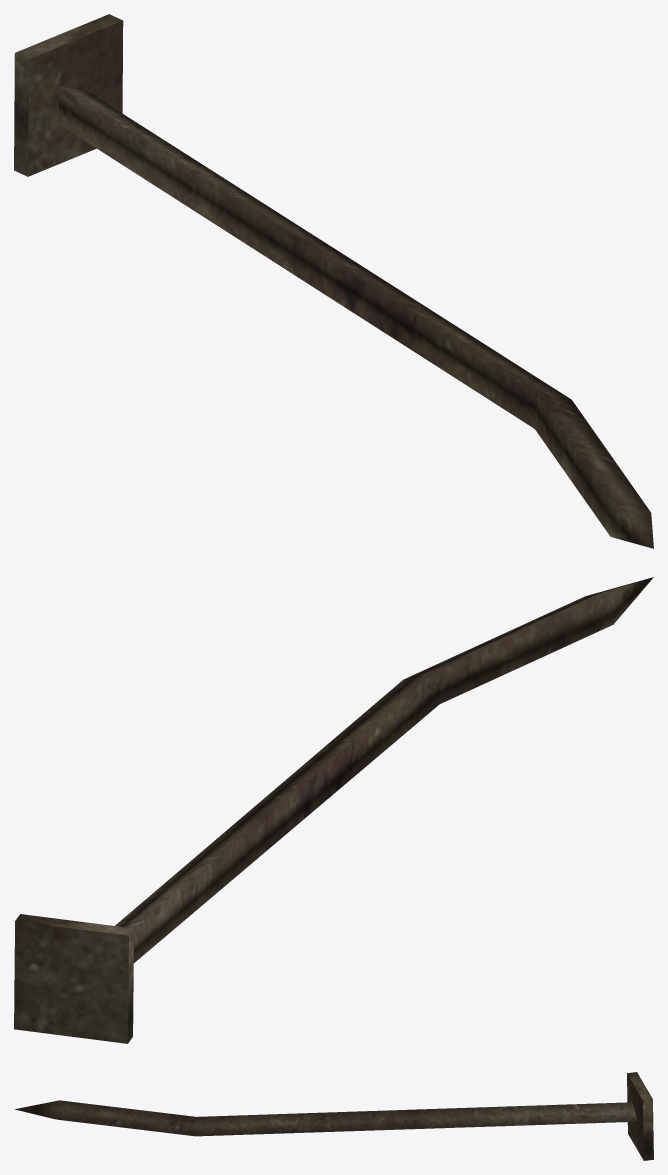
File: TI_Nail_03.fbx
The picture shows the model from 3 angles, top to bottom: view 1: azimuth 30°, elevation 25°; view 2: azimuth 150°, elevation 25°; view 3: azimuth 270°, elevation 25°; orthographic projection. The views are drawn at different scales.
Parts seen in each view (by area): view 1: TI_Nail_03; view 2: TI_Nail_03; view 3: TI_Nail_03.
Boxes of the visible parts, box(x1,y1,x2,y2) form: TI_Nail_03: box(14, 14, 653, 548); TI_Nail_03: box(14, 577, 653, 1043); TI_Nail_03: box(15, 1072, 653, 1160).
Bounding box in the file's own units: 0.0559 × 0.05 × 0.4754.
